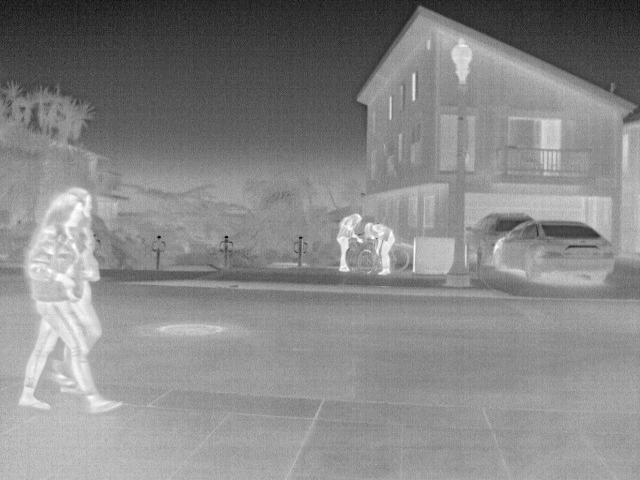car: (491, 218, 619, 288), (464, 210, 532, 271)
person: (17, 192, 125, 414), (64, 185, 103, 353), (337, 212, 367, 273), (364, 222, 397, 277)
